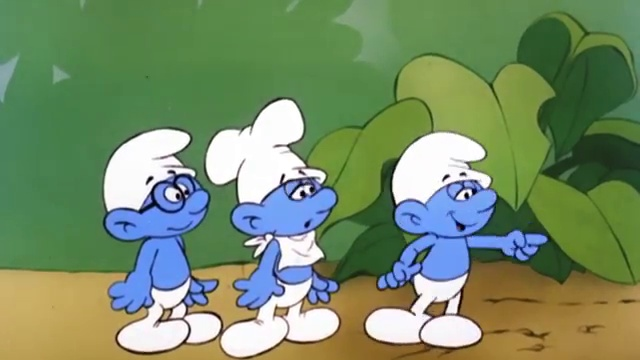smurf: (362, 132, 553, 349), (200, 94, 347, 360), (102, 125, 223, 359)
